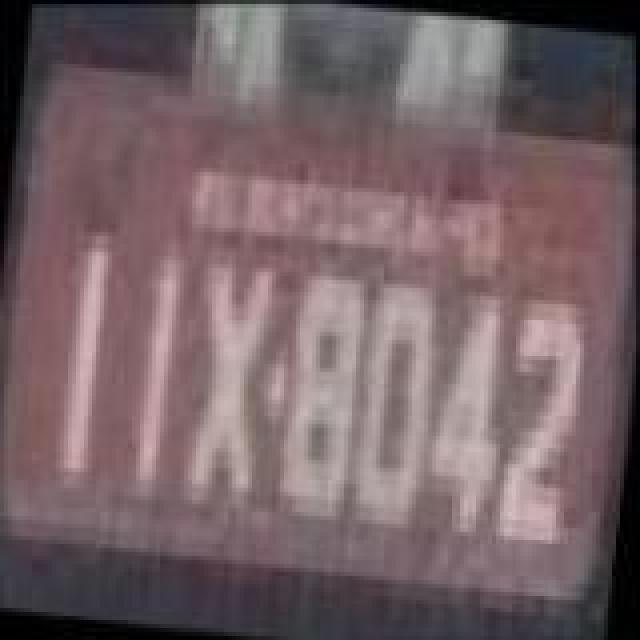1: (52, 220, 120, 484), (128, 242, 188, 490)
2: (492, 292, 596, 548)
4: (420, 288, 524, 544)
8: (270, 260, 378, 520)
O: (342, 268, 450, 532)
X: (178, 242, 282, 510)
